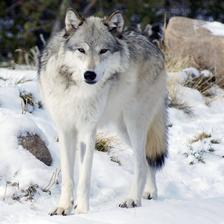WOLF: (43, 9, 168, 217)
